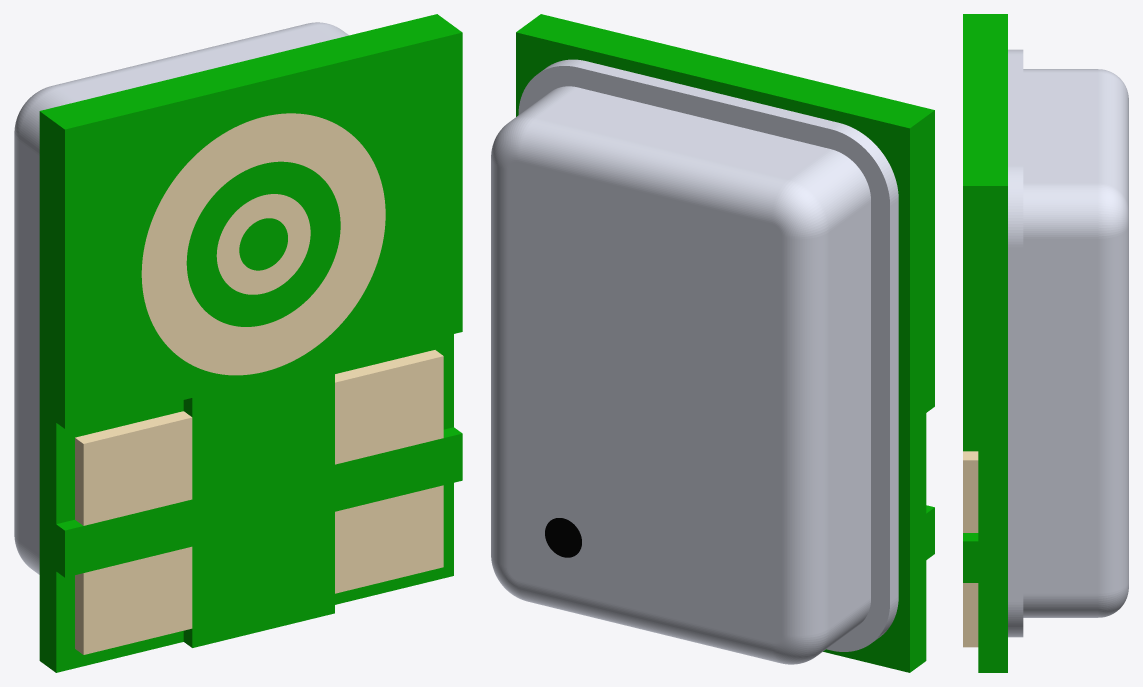
The model's file is sensor.glb.
3 views of the same model, side by side, from view 1: azimuth 30°, elevation 25°; view 2: azimuth 150°, elevation 25°; view 3: azimuth 270°, elevation 25° (orthographic). The views are drawn at different scales.
Visible parts, largest first — view 1: Node3, Node2, Node1; view 2: Node1, Node3, Node4; view 3: Node1, Node3, Node2.
Part boxes in pixels (x1,y1,x2,y2): Node3: (39,14,462,672); Node2: (75,113,443,654); Node1: (14,22,348,574); Node1: (491,59,898,664); Node3: (516,14,934,672); Node4: (545,518,581,557); Node1: (1008,49,1128,637); Node3: (963,14,1007,672); Node2: (963,451,978,647).
Size of the model in its own units: 2.65 by 3.5 by 1.08.
